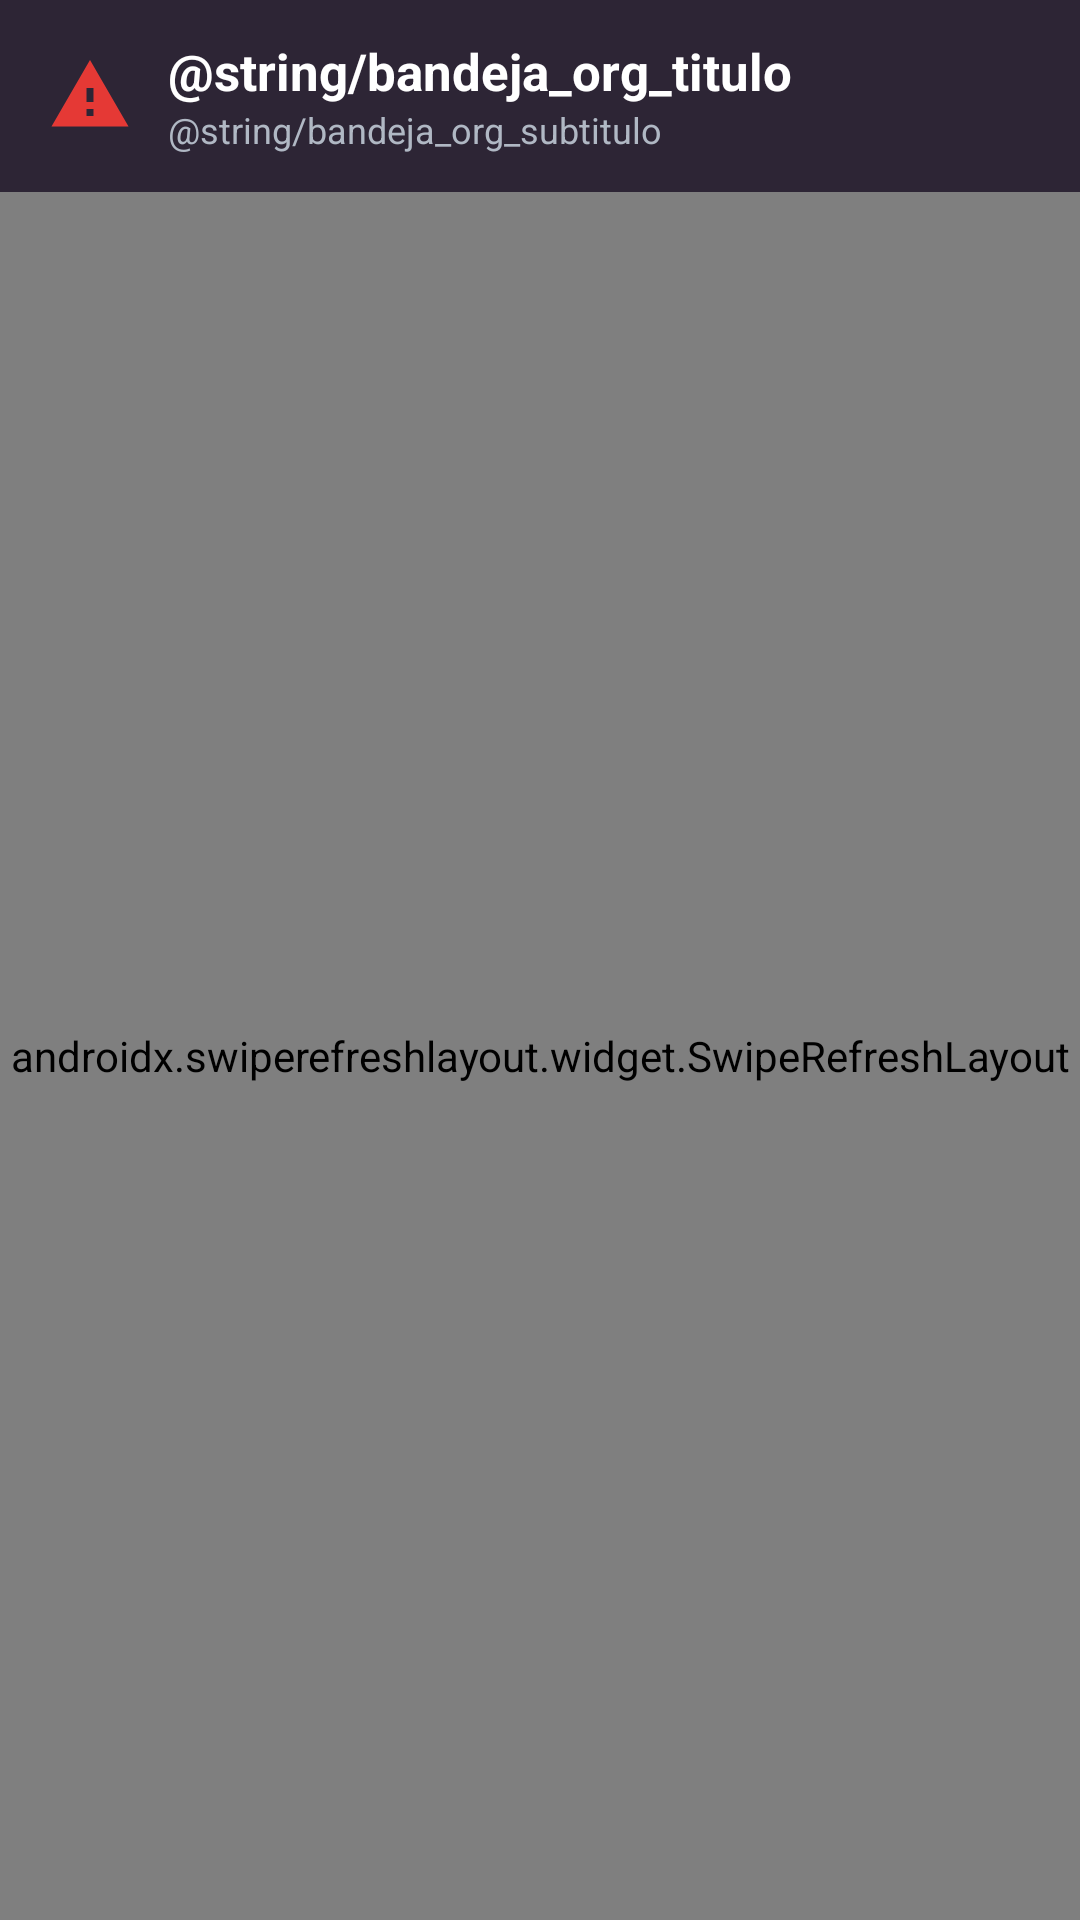

Icons on this 1080x1920 Android screen, each with its box as (left=x1, top=y1, right=x2, bottom=y2):
warning: (left=51, top=60, right=129, bottom=127)
